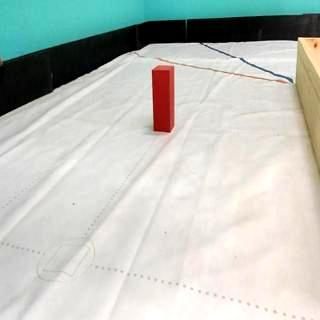redbox: (152, 64, 174, 132)
